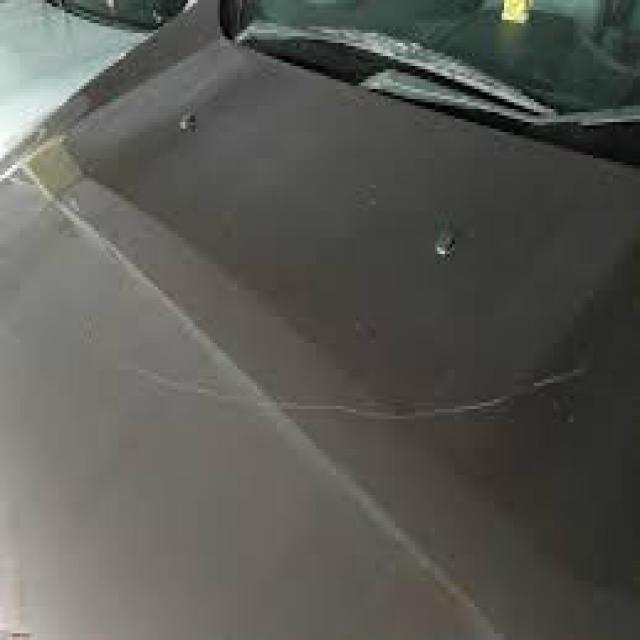bonnet-dent: (2, 69, 638, 640)
